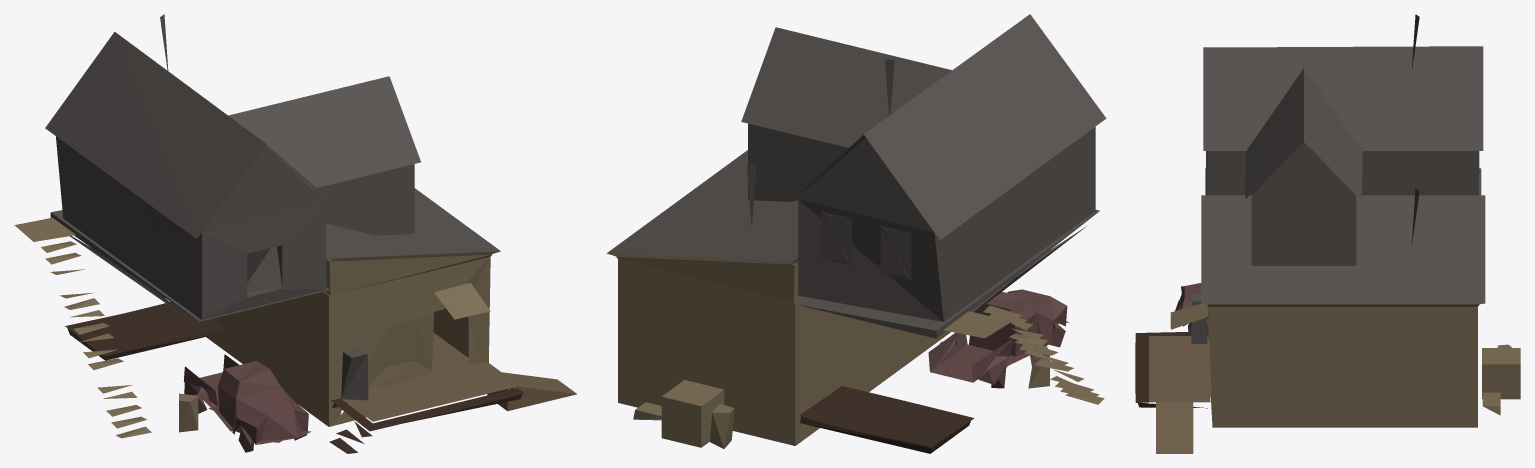
File: barn.walls-v1.lod2.glb
3 views of the same model, side by side, from view 1: azimuth 30°, elevation 25°; view 2: azimuth 150°, elevation 25°; view 3: azimuth 270°, elevation 25° (orthographic). The views are drawn at different scales.
Visible parts, largest first — view 1: polySurface3_barn_0; view 2: polySurface3_barn_0; view 3: polySurface3_barn_0.
Boxes of the visible parts, x1,y1,x2,y2 form: polySurface3_barn_0: [14, 14, 577, 453]; polySurface3_barn_0: [606, 14, 1106, 453]; polySurface3_barn_0: [1135, 14, 1520, 453].
Bounding box in the file's own units: 13.5 × 11.19 × 12.4.
